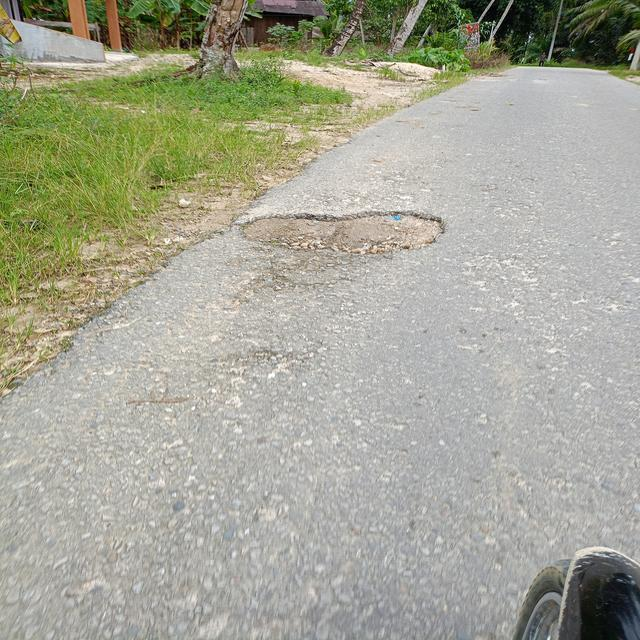Lubang: (256, 213, 437, 265)
